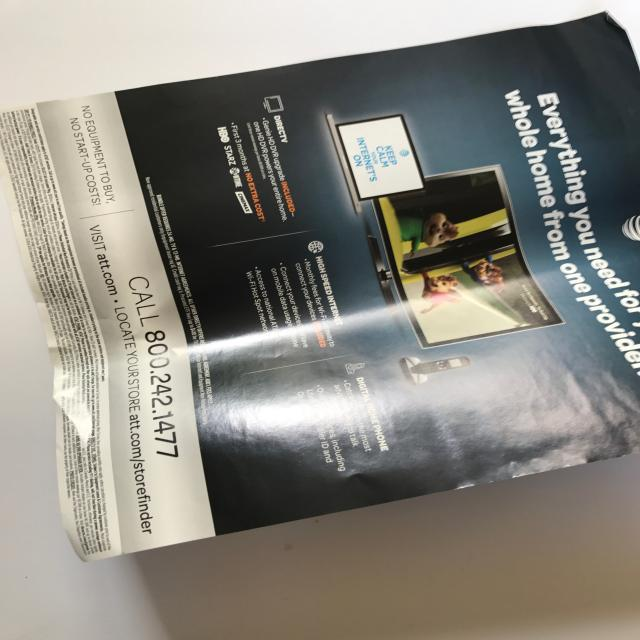paper: (2, 10, 640, 560)
